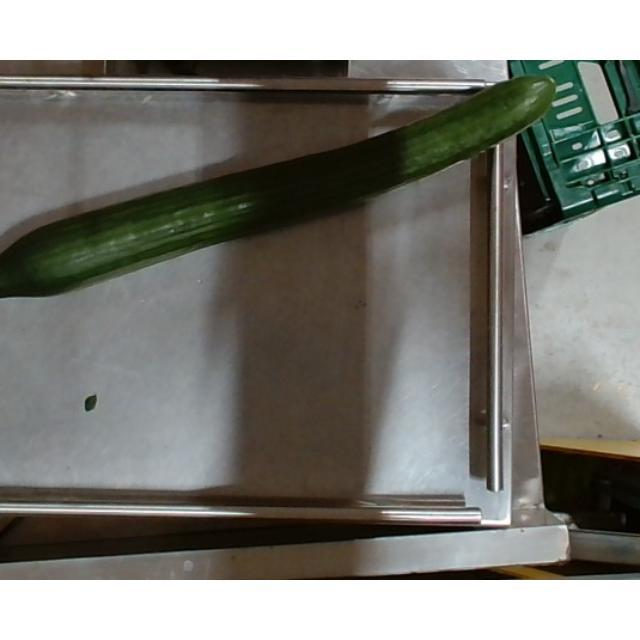cucumber: (1, 75, 556, 299)
